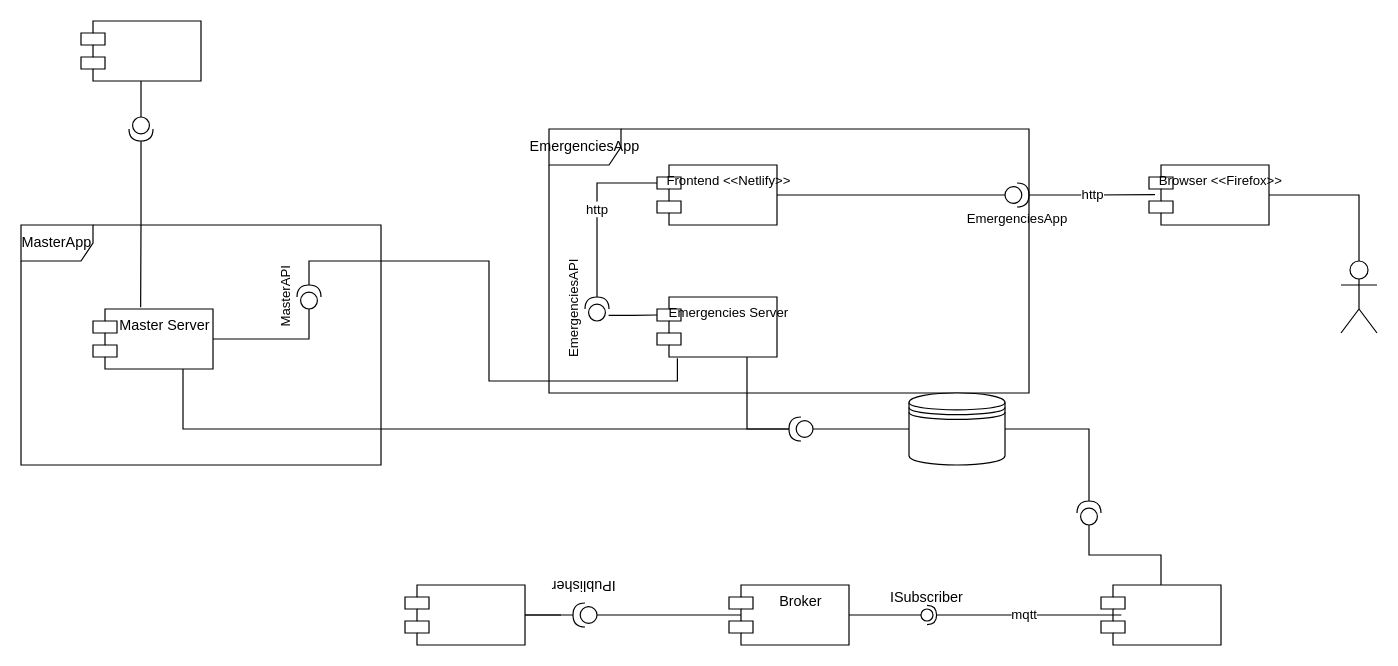
The diagram is 1398 pixels wide and 666 high, and some of its shapes have lost their labels. The box of each missing label's shape, as (x1, y1, x2, y2) in pixels:
Actor: (1340, 260, 1377, 333)
Daemon: (1100, 584, 1221, 645)
Emergencies <<SQL>>: (908, 392, 1005, 465)
Fuente de emergencies: (404, 584, 525, 645)
Workers: (80, 20, 201, 81)
